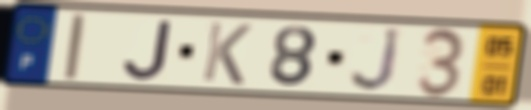3: (414, 24, 469, 101)
8: (268, 24, 320, 88)
I: (61, 12, 89, 82)
J: (347, 26, 404, 95), (121, 18, 176, 83)
K: (198, 19, 255, 87)
